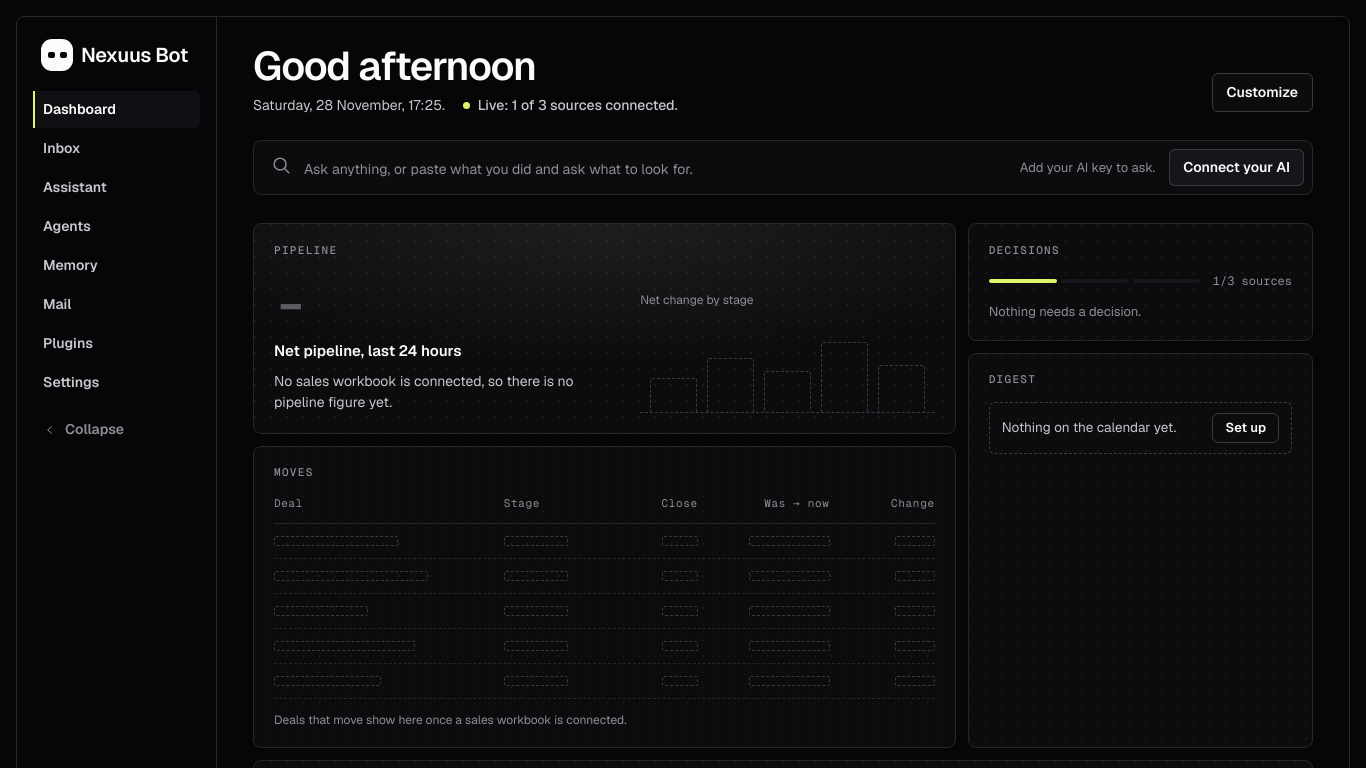
Test: entering and leaving customize › returns the normal view on Done
Click the button "Customize": (1262, 92) [1212, 73, 1313, 112]
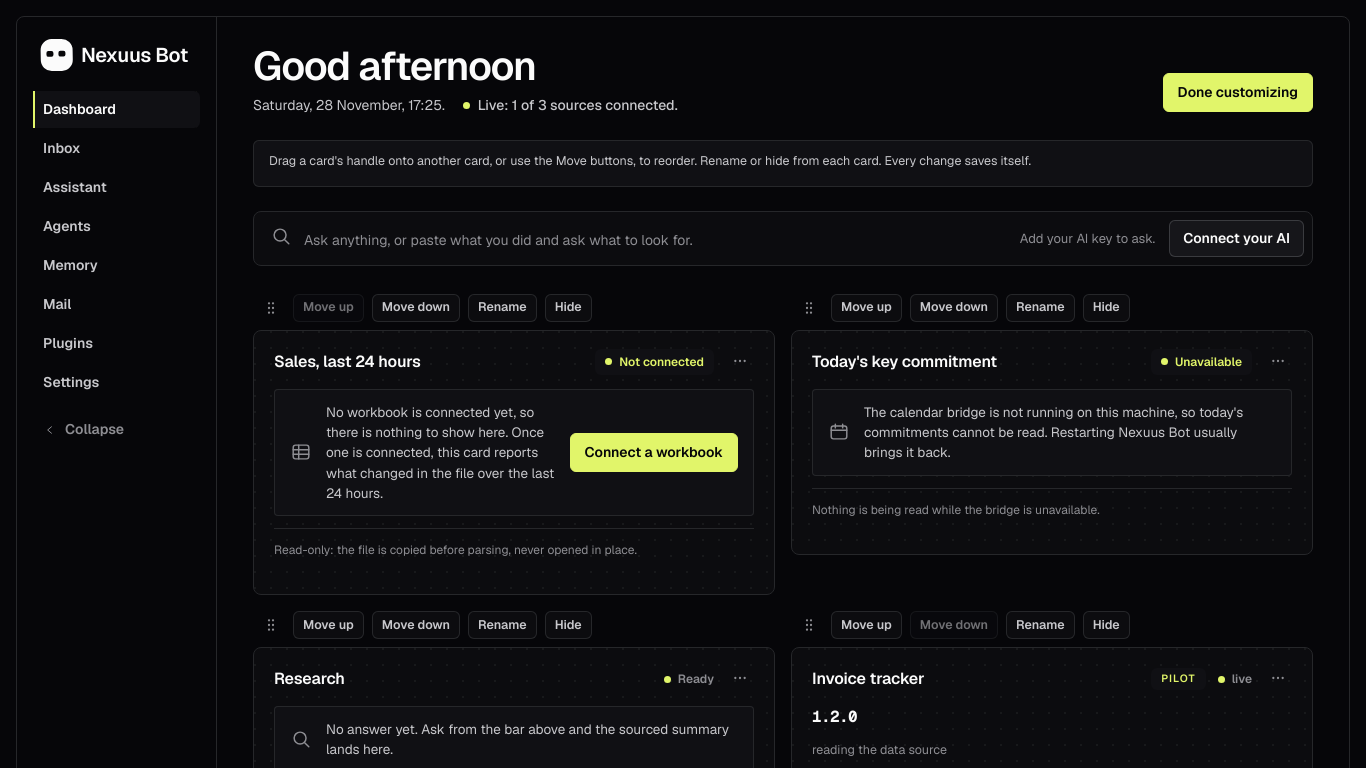
Check: the button "Done customizing" is shown
Click the button "Done customizing": (1238, 92) [1163, 73, 1313, 112]
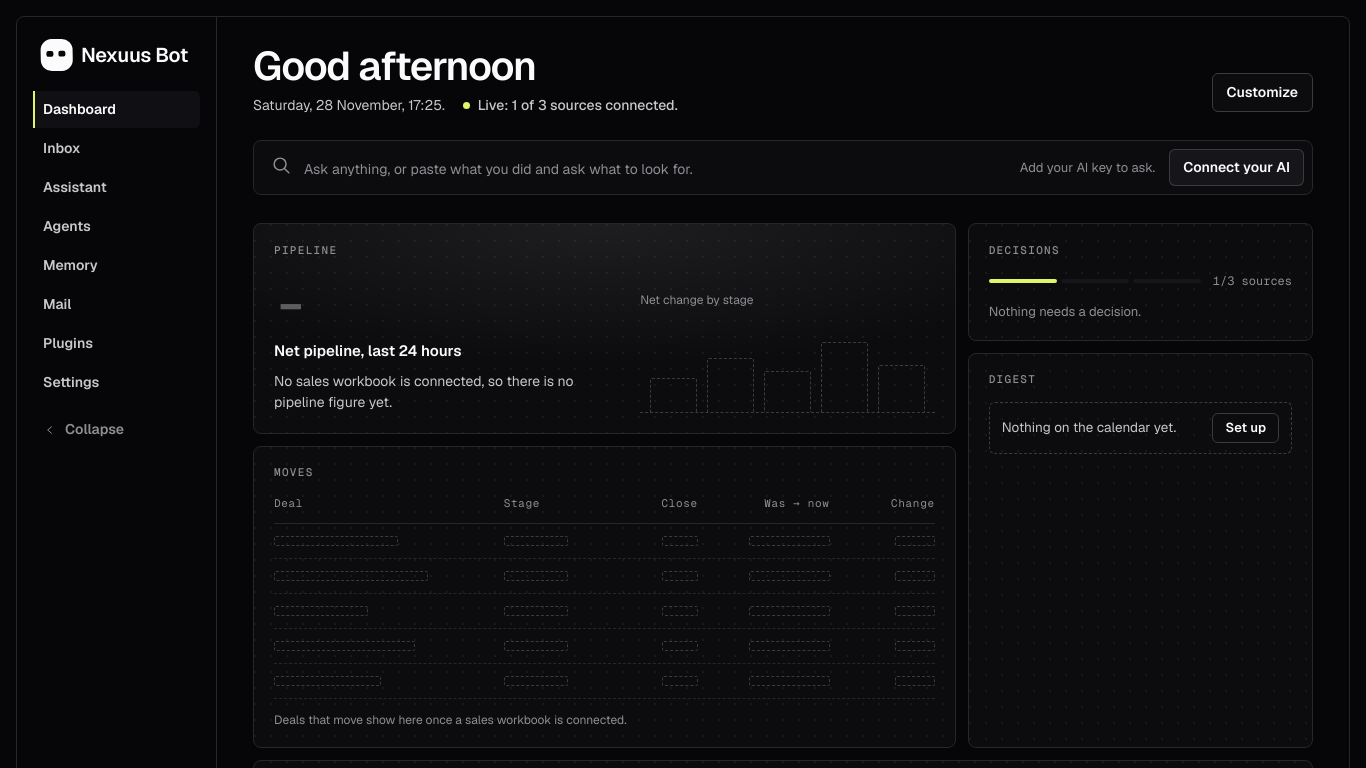
Check: the button "Done customizing" is gone
Check: the button "Customize" is shown, box [1212, 73, 1313, 112]
